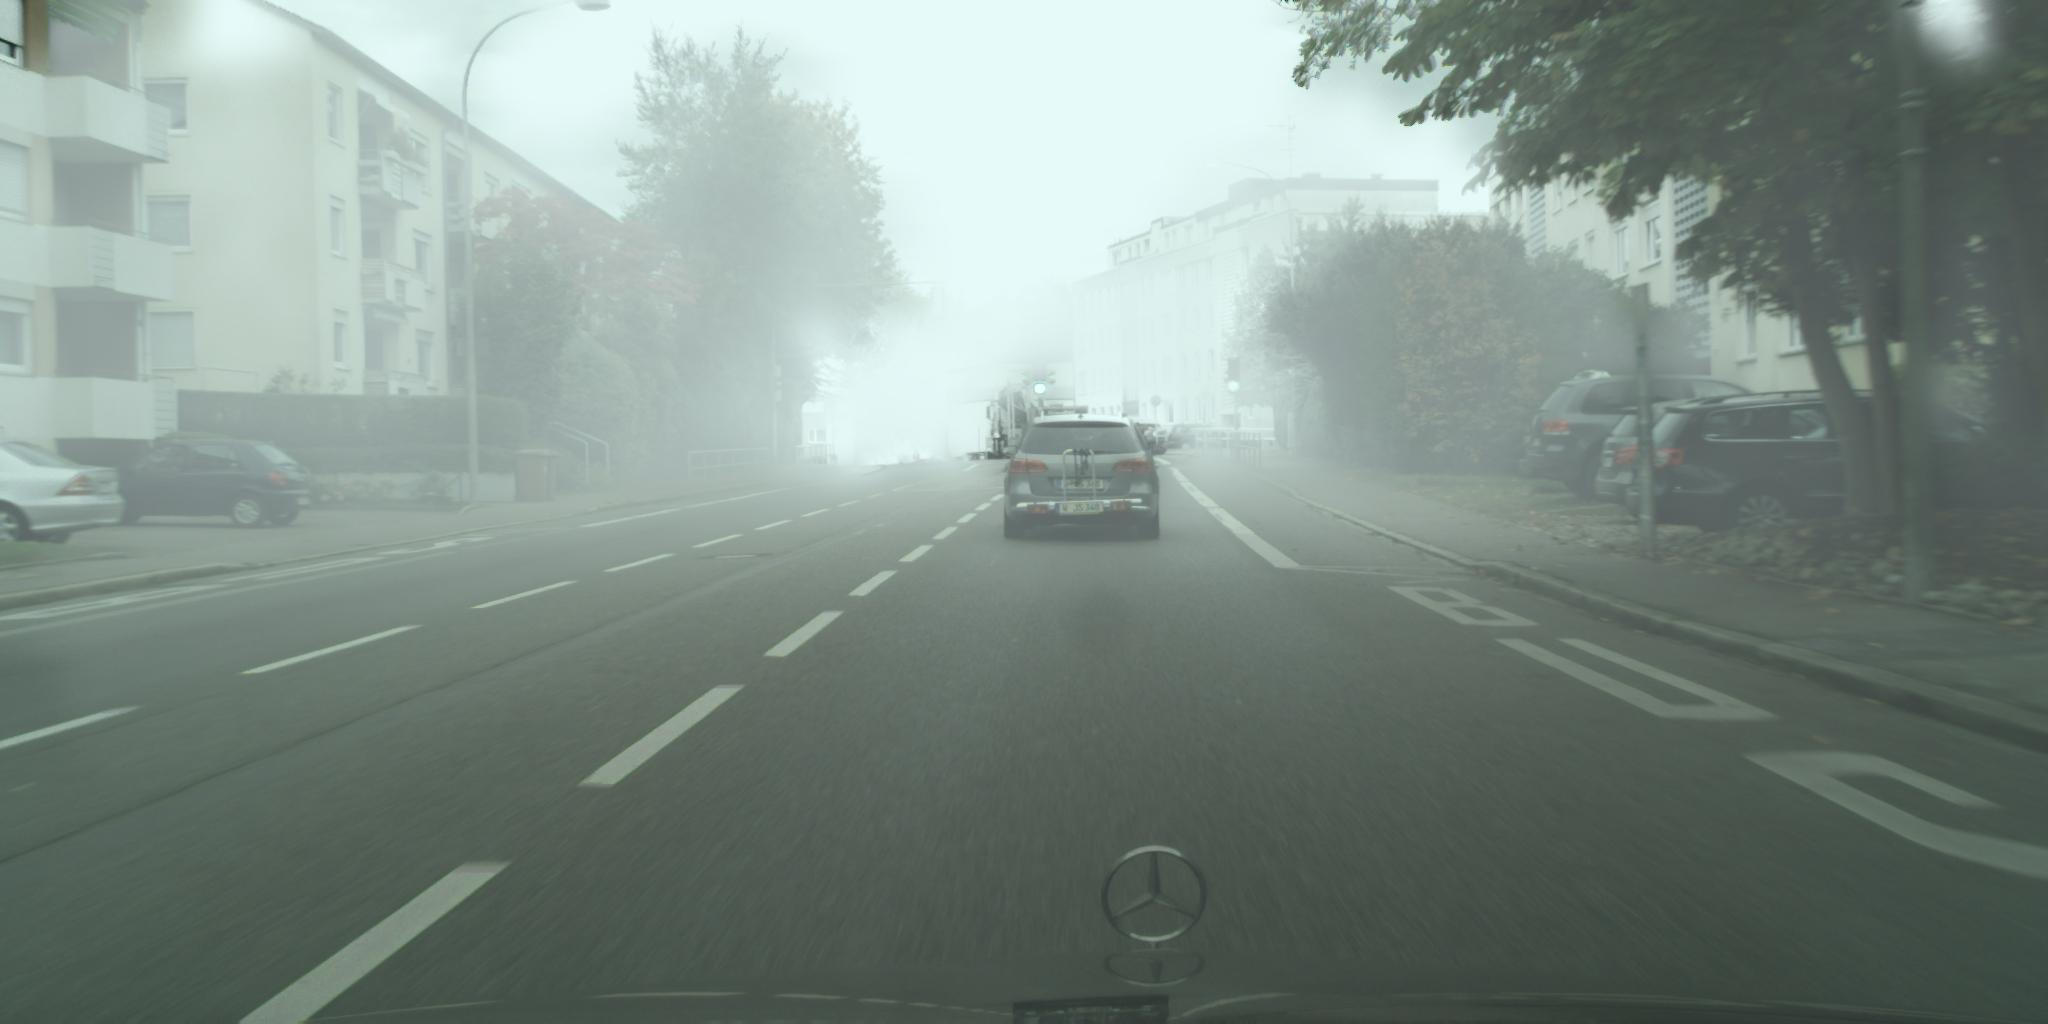car: (1626, 388, 2024, 539), (1524, 371, 1765, 505), (1002, 409, 1169, 542), (102, 439, 315, 530), (1595, 400, 1742, 505), (1, 439, 127, 556), (1165, 423, 1232, 451), (1142, 424, 1176, 453), (1131, 423, 1165, 448)
